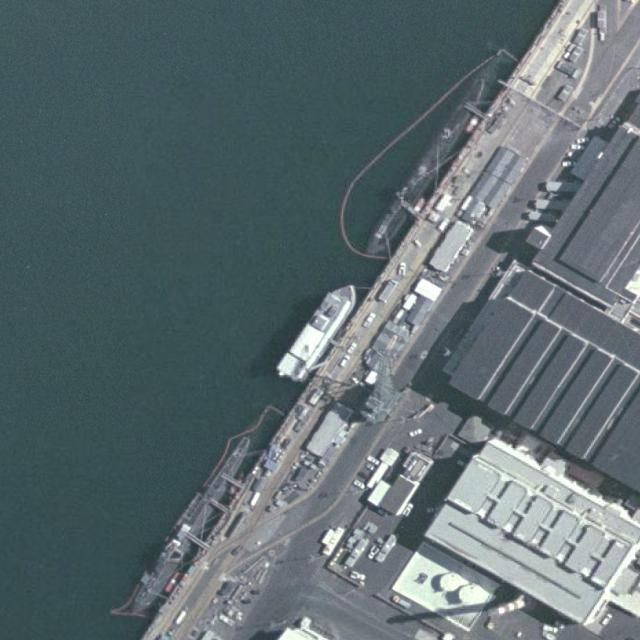Other Ship: (270, 273, 365, 391)
Submarine: (125, 432, 257, 619), (360, 74, 489, 258)
